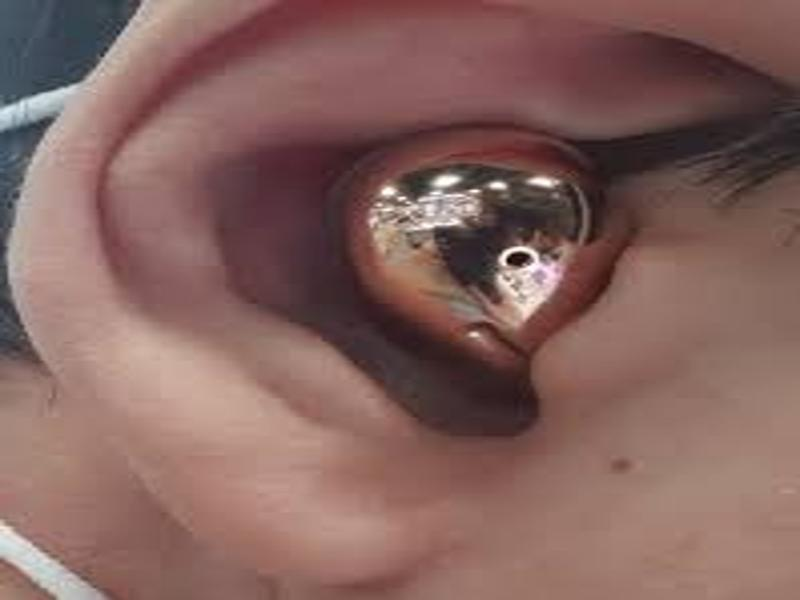headphone: (318, 118, 627, 381)
